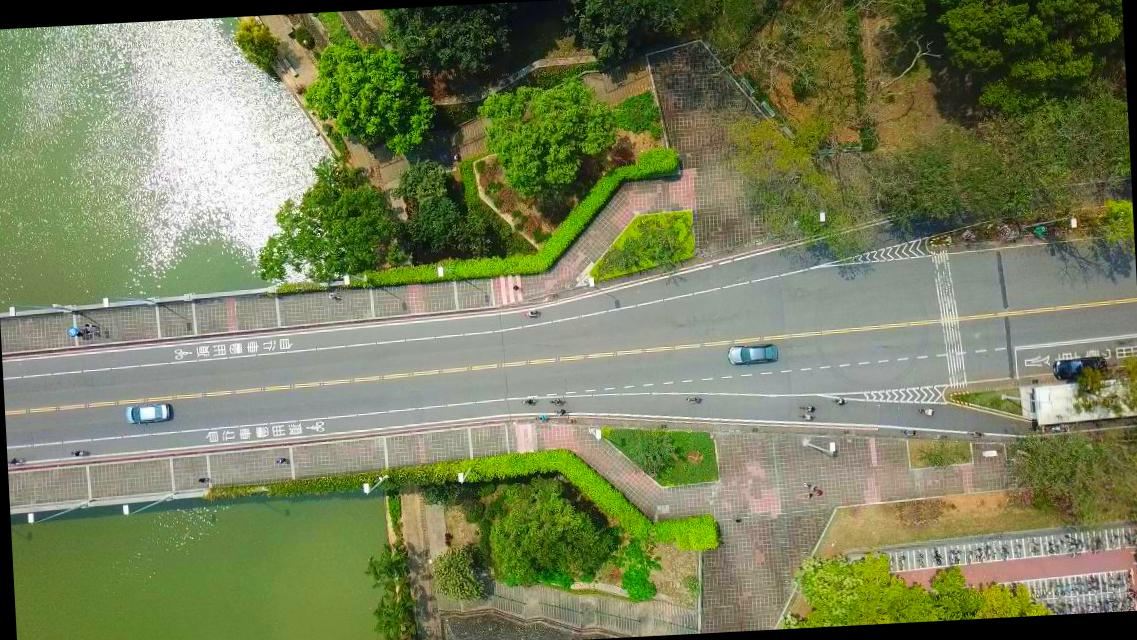vehicle: (726, 342, 778, 368), (1052, 356, 1106, 381), (125, 403, 171, 425)
